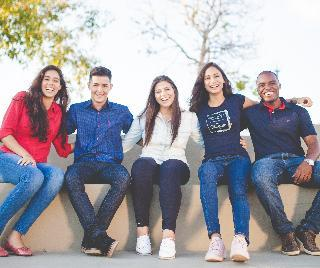person - v3 P: (123, 76, 203, 259), (242, 71, 319, 255), (0, 66, 74, 255), (190, 63, 258, 261), (65, 67, 133, 257)
